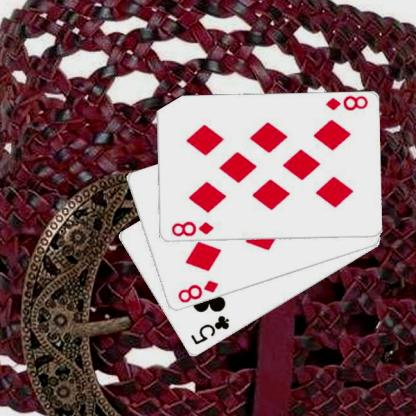5C: (188, 312, 230, 346)
8D: (174, 278, 219, 304), (168, 219, 215, 237), (322, 94, 368, 112)
